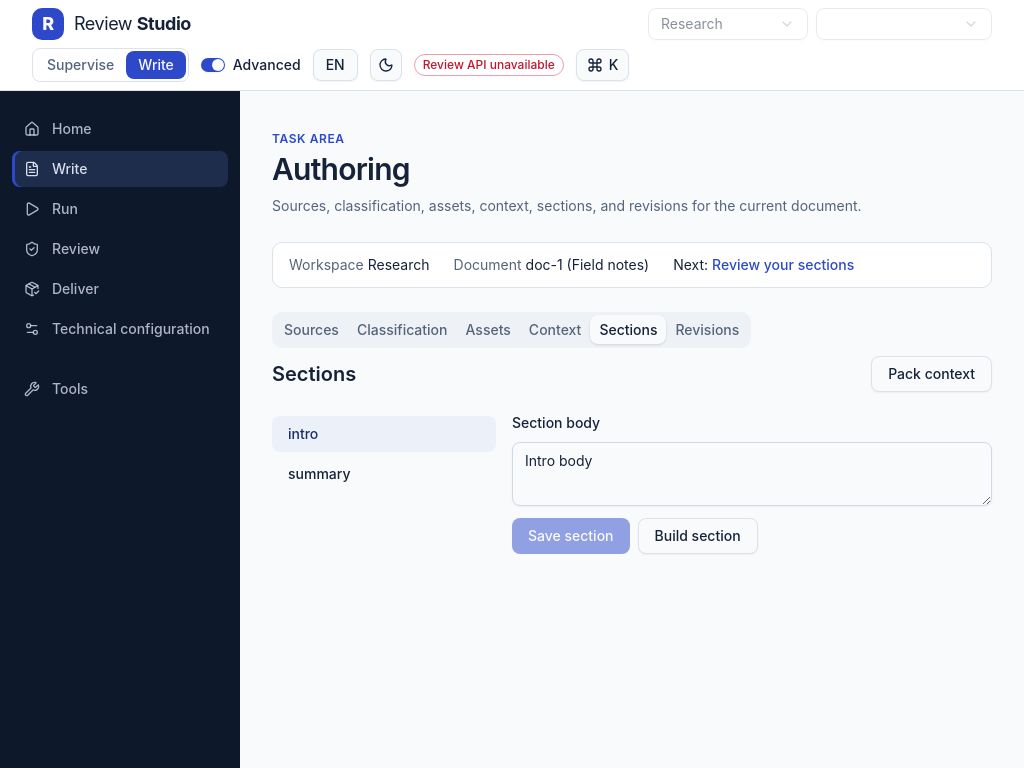
Test: section editor › builds a section and packs context for a target
The image size is (1024, 768).
Expected: the text box labelled "Section body" is shown, [512,442,992,506]
Click the button "Build section".
click(698, 536)  # box [638,518,758,554]
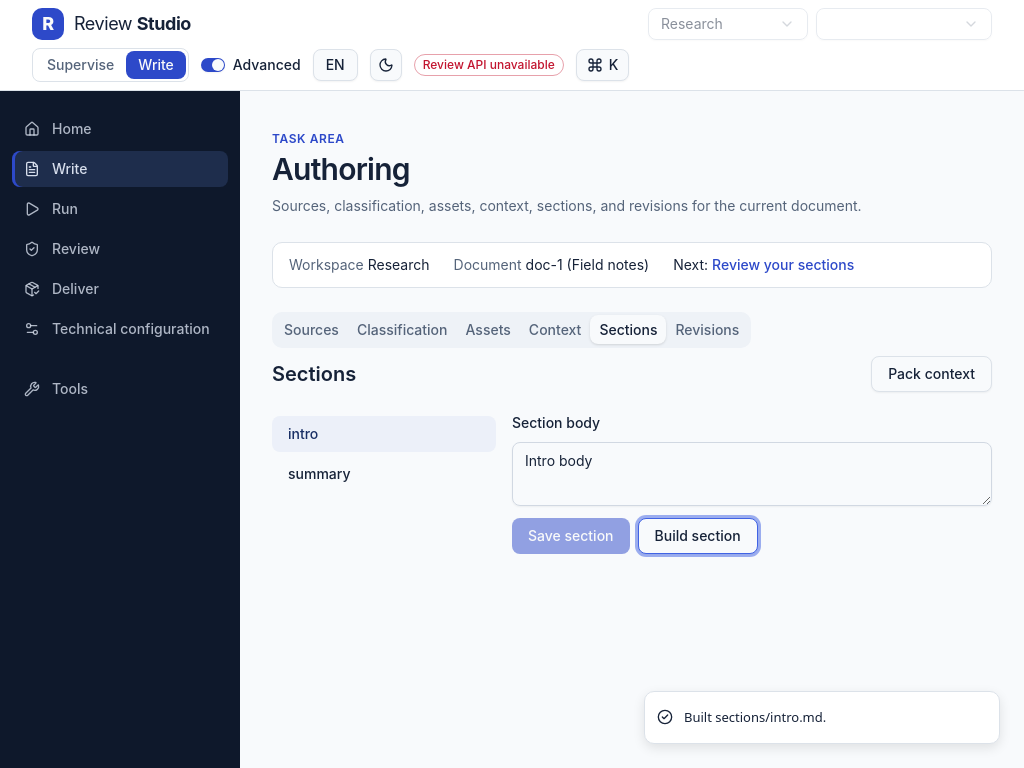
Click the button "Pack context".
click(932, 374)  # box [871,356,992,392]
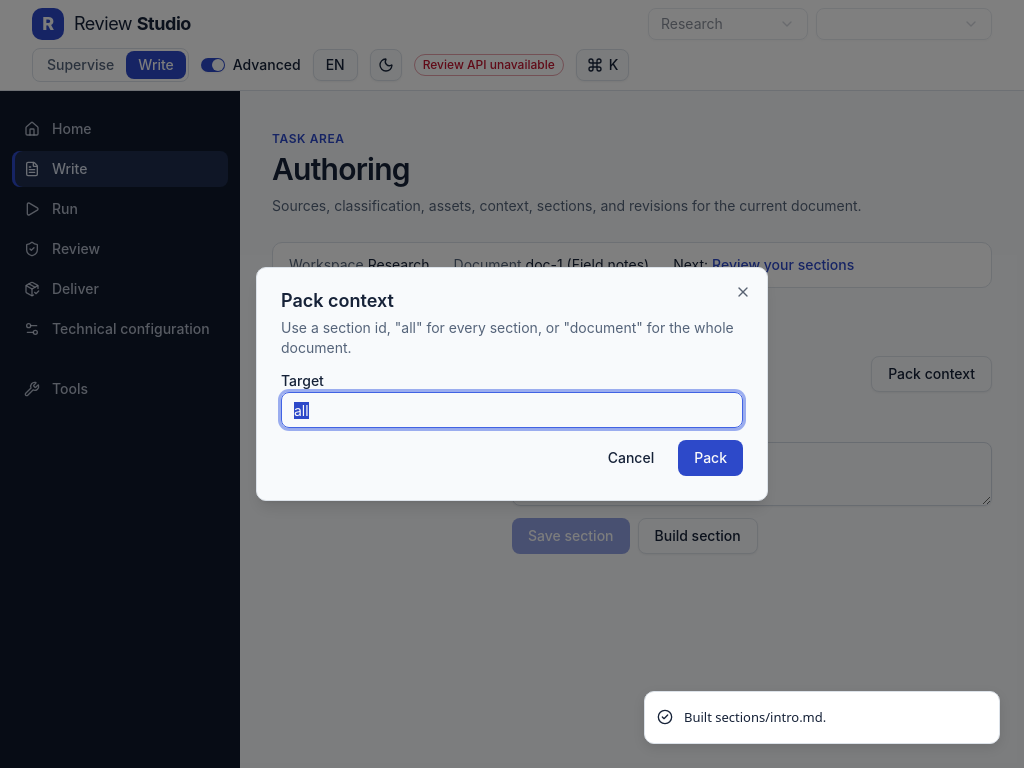
Click the button "Pack".
click(711, 458)  # box [678,440,743,476]
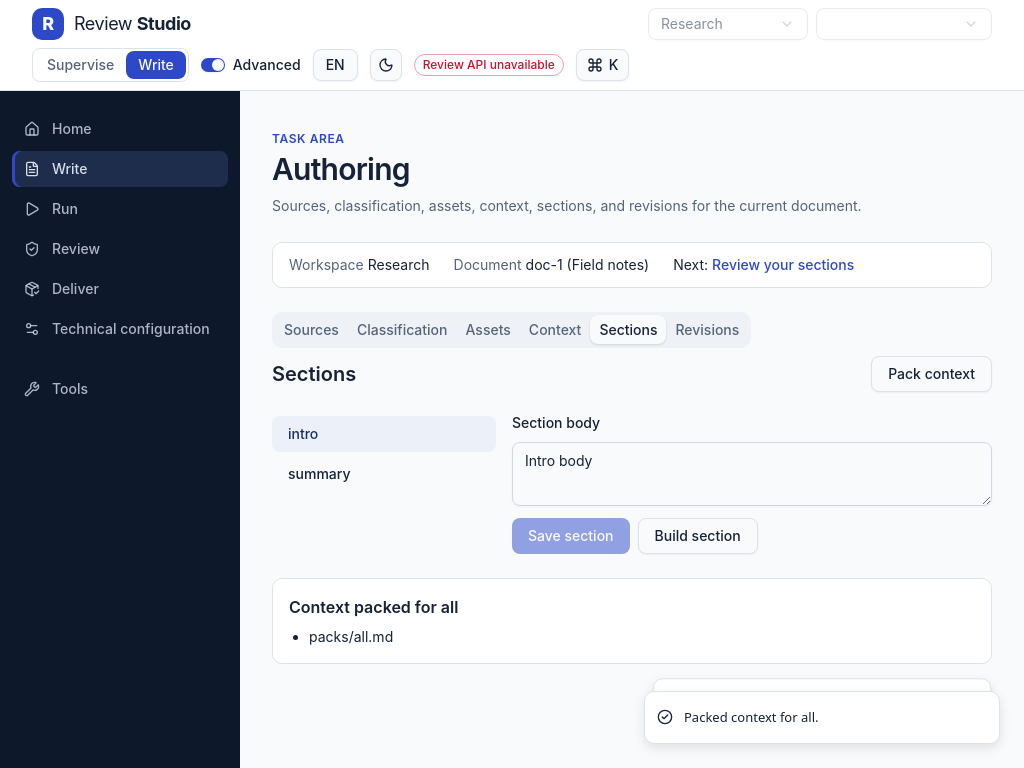
Result: the list item "packs/all.md" is shown at [309,628,393,645]
